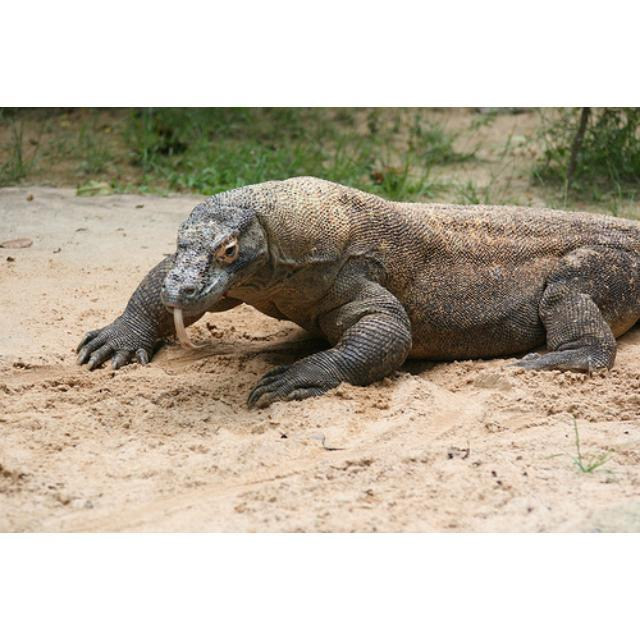KomodoDragon: (61, 176, 637, 415)
